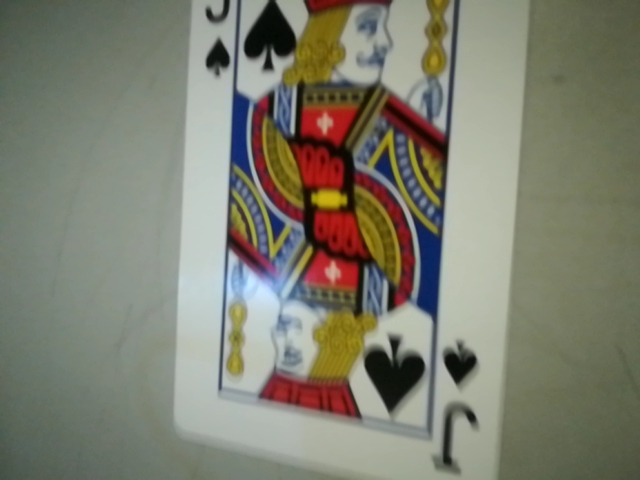ht j: (424, 328, 496, 480)
